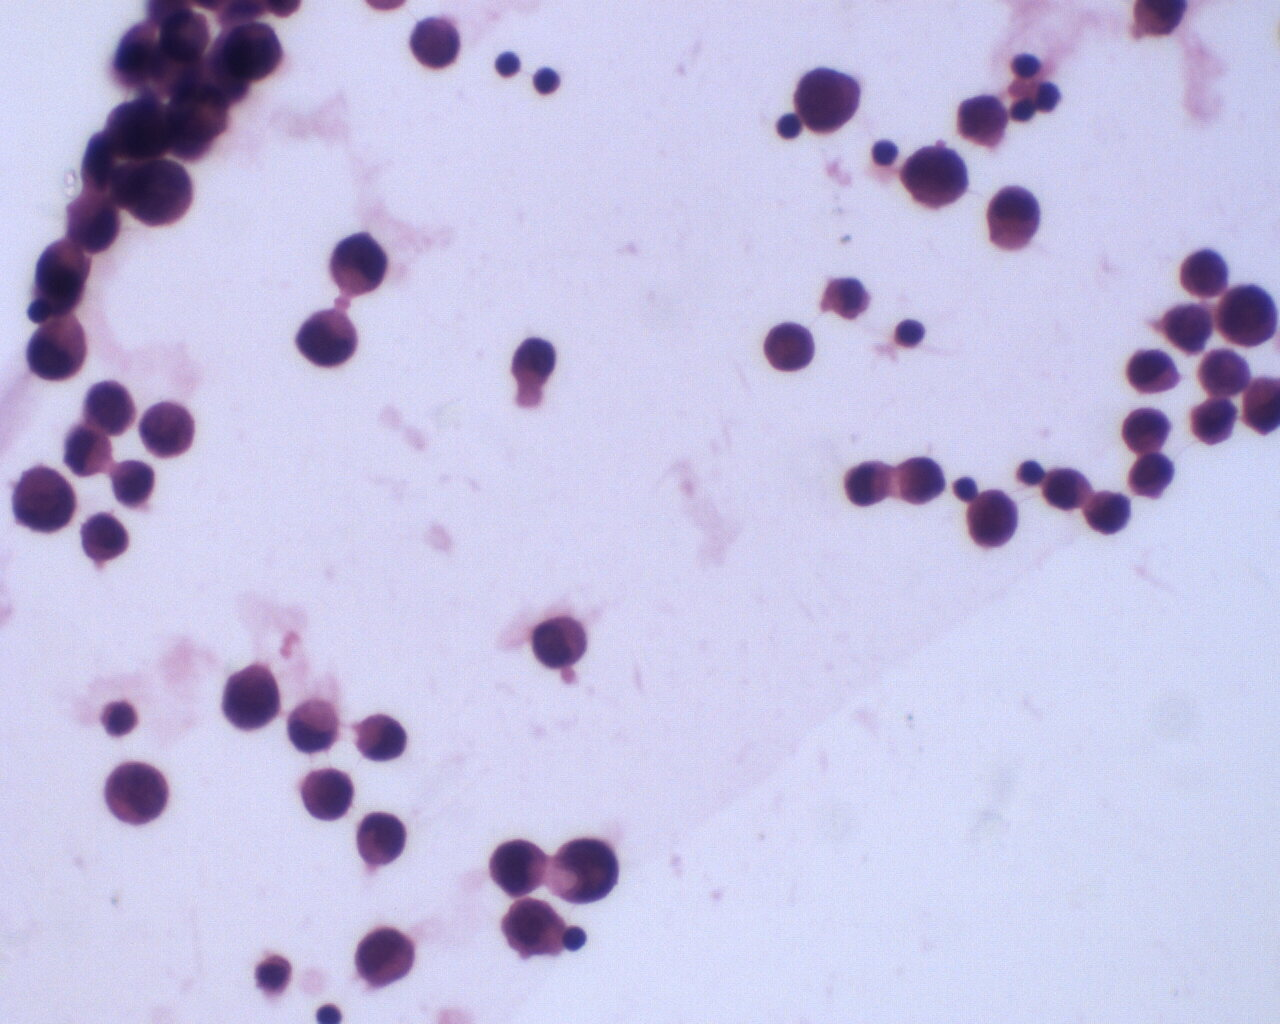ab: (121, 156, 196, 230), (898, 141, 971, 213), (9, 464, 82, 535), (794, 63, 863, 136), (320, 231, 393, 298), (217, 664, 285, 734), (99, 757, 170, 823), (289, 307, 360, 368), (1215, 282, 1279, 348), (355, 922, 417, 990), (352, 707, 417, 770), (224, 20, 284, 85), (504, 898, 565, 959), (488, 835, 549, 898), (965, 486, 1023, 552), (295, 762, 358, 820), (139, 396, 195, 461), (406, 13, 464, 73), (83, 377, 139, 439), (762, 316, 816, 375), (533, 615, 589, 671), (354, 811, 408, 869), (1178, 245, 1232, 300), (957, 94, 1009, 152), (897, 455, 948, 508), (79, 510, 130, 564), (1126, 346, 1179, 397), (1190, 394, 1239, 448), (106, 458, 156, 510), (1085, 483, 1131, 535), (1128, 453, 1178, 502), (1044, 463, 1087, 512)
lymph: (895, 315, 930, 351), (489, 49, 525, 82), (531, 63, 562, 97), (870, 138, 901, 169)
